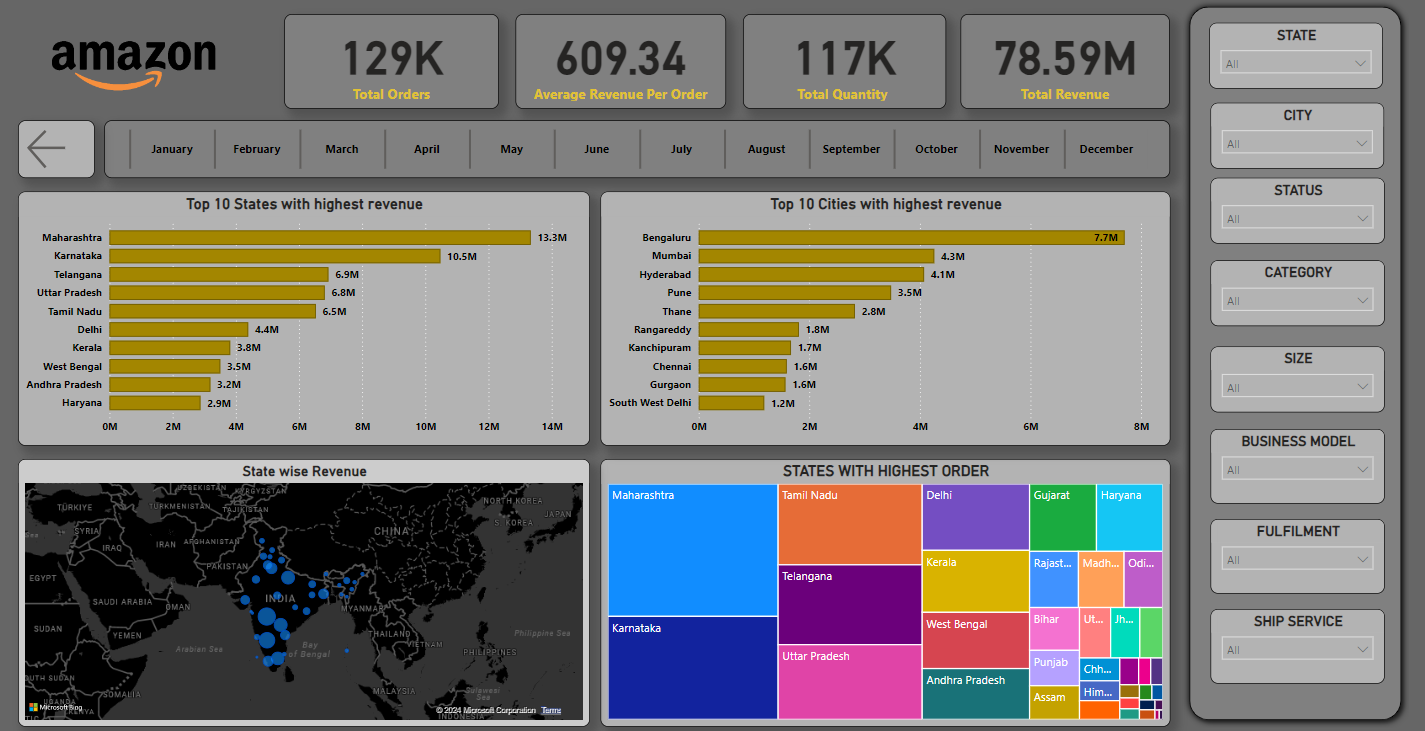

This screenshot's page, from the dashboard's own definition file:
{"tool":"powerbi","page":{"name":"Page 2","canvas":[1700,875],"ordinal":1},"visuals":[{"type":"image","box":[3.8,11.2,313.8,123.8],"z":0},{"type":"card","title":"Total Revenue","fields":{"Values":["amazon_sales_data.Total Revenue"]},"box":[1145,17.5,248.8,112.5],"z":1000},{"type":"card","title":"Total Revenue","fields":{"Values":["amazon_sales_data.Total Quantity"]},"box":[885,17.5,241.2,112.5],"z":2000},{"type":"card","title":"Total Revenue","fields":{"Values":["amazon_sales_data.Total Orders"]},"box":[340,17.5,255,112.5],"z":3000},{"type":"card","title":"Total Revenue","fields":{"Values":["amazon_sales_data.Average Revenue Per Order"]},"box":[615,17.5,250,112.5],"z":4000},{"type":"shape","box":[1407.5,0,270,866.2],"z":5000},{"type":"slicer","fields":{"Values":["amazon_sales_data.Date.Variation.Date Hierarchy.Month"]},"box":[126.2,143.8,1267.5,68.8],"z":6000},{"type":"slicer","title":"STATE","fields":{"Values":["amazon_sales_data.State"]},"box":[1440,28.8,206.2,78.8],"z":7000},{"type":"slicer","title":"CITY","fields":{"Values":["amazon_sales_data.City"]},"box":[1441.2,123.8,206.2,78.8],"z":8000},{"type":"slicer","title":"STATUS","fields":{"Values":["amazon_sales_data.Courier Status"]},"box":[1441.2,212.5,207.5,78.8],"z":9000},{"type":"slicer","title":"CATEGORY","fields":{"Values":["amazon_sales_data.Category"]},"box":[1441.2,311.2,207.5,78.8],"z":10000},{"type":"slicer","title":"SIZE","fields":{"Values":["amazon_sales_data.Size"]},"box":[1441.2,412.5,207.5,78.8],"z":11000},{"type":"slicer","title":"BUSINESS MODEL","fields":{"Values":["amazon_sales_data.Business Model"]},"box":[1441.2,511.2,207.5,88.8],"z":12000},{"type":"slicer","title":"FULFILMENT","fields":{"Values":["amazon_sales_data.Fulfilment"]},"box":[1441.2,618.8,207.5,88.8],"z":13000},{"type":"slicer","title":"SHIP SERVICE ","fields":{"Values":["amazon_sales_data.ship-service-level"]},"box":[1441.2,725,207.5,88.8],"z":14000},{"type":"actionButton","box":[23.8,143.8,91.2,68.8],"z":15000},{"type":"treemap","title":"STATES WITH HIGHEST ORDER","fields":{"Group":["amazon_sales_data.State"],"Values":["CountNonNull(amazon_sales_data.State)"]},"box":[716.2,547.5,677.5,318.8],"z":16000},{"type":"clusteredBarChart","title":"Top 10 States with highest revenue","fields":{"Category":["amazon_sales_data.State"],"Y":["Sum(amazon_sales_data.Amount)"]},"box":[23.3,228.9,680,302.2],"z":17000},{"type":"clusteredBarChart","title":"Top 10 Cities with highest revenue","fields":{"Category":["amazon_sales_data.City"],"Y":["Sum(amazon_sales_data.Amount)"]},"box":[716.7,228.9,677.8,302.2],"z":18000},{"type":"map","title":"State wise Revenue","fields":{"Category":["amazon_sales_data.State"],"Size":["Sum(amazon_sales_data.Amount)"]},"box":[23.8,547.5,680,318.8],"z":19000}]}

Visuals, with their boxes in screenshot pixels (x1, y1, x2, y2), scaled from the page's 1700x875 canvas onto the 1425x731 screenshot:
image: detection(3, 9, 266, 113)
"Total Revenue" card: detection(960, 15, 1168, 109)
"Total Revenue" card: detection(742, 15, 944, 109)
"Total Revenue" card: detection(285, 15, 499, 109)
"Total Revenue" card: detection(516, 15, 725, 109)
shape: detection(1180, 0, 1406, 724)
slicer - amazon_sales_data.Date.Variation.Date Hierarchy.Month: detection(106, 120, 1168, 178)
"STATE" slicer: detection(1207, 24, 1380, 90)
"CITY" slicer: detection(1208, 103, 1381, 169)
"STATUS" slicer: detection(1208, 178, 1382, 243)
"CATEGORY" slicer: detection(1208, 260, 1382, 326)
"SIZE" slicer: detection(1208, 345, 1382, 410)
"BUSINESS MODEL" slicer: detection(1208, 427, 1382, 501)
"FULFILMENT" slicer: detection(1208, 517, 1382, 591)
"SHIP SERVICE " slicer: detection(1208, 606, 1382, 680)
actionButton: detection(20, 120, 96, 178)
"STATES WITH HIGHEST ORDER" treemap: detection(600, 457, 1168, 724)
"Top 10 States with highest revenue" clusteredBarChart: detection(20, 191, 590, 444)
"Top 10 Cities with highest revenue" clusteredBarChart: detection(601, 191, 1169, 444)
"State wise Revenue" map: detection(20, 457, 590, 724)
